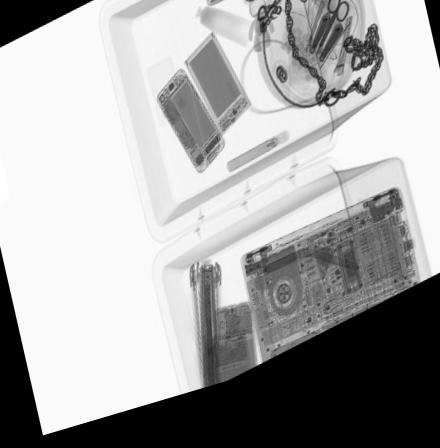Powerbank: (182, 42, 254, 149)
